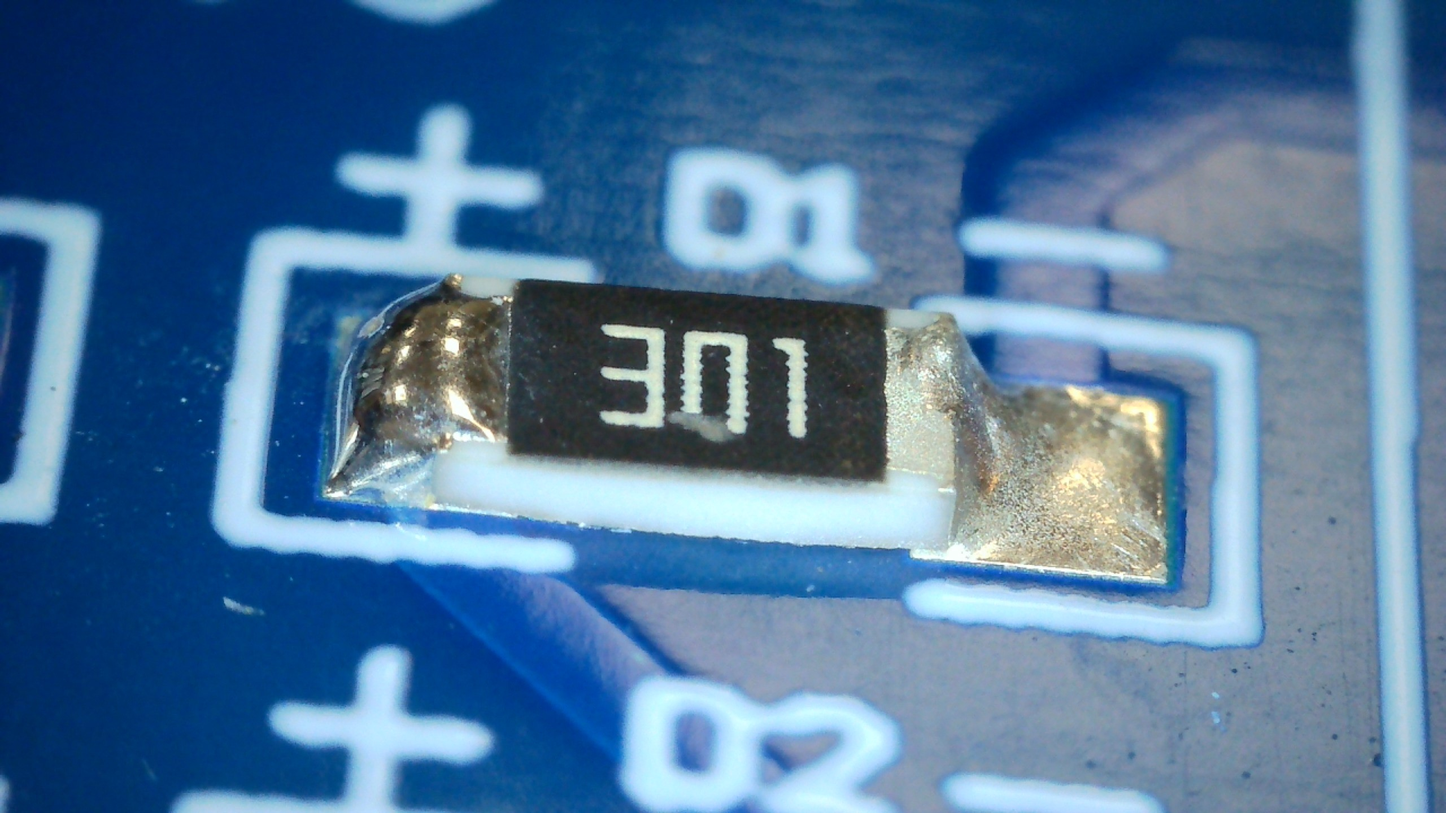NG: (890, 308, 1167, 573), (325, 274, 511, 495), (903, 317, 962, 409)
